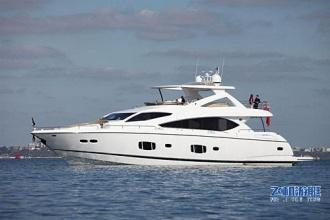yacht: (26, 55, 311, 168)
